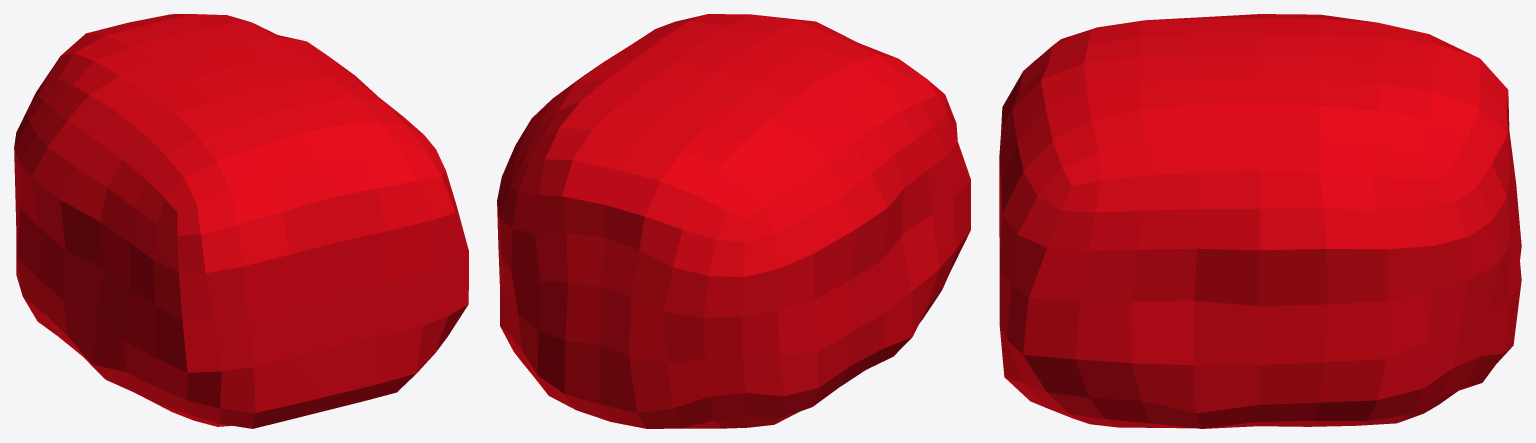
Rendered from body.fbx.
The picture shows the model from 3 angles, left to right: view 1: azimuth 30°, elevation 25°; view 2: azimuth 150°, elevation 25°; view 3: azimuth 270°, elevation 25°; orthographic projection. The views are drawn at different scales.
Visible parts, largest first — view 1: Cube.001; view 2: Cube.001; view 3: Cube.001.
Boxes of the visible parts, x1,y1,x2,y2 form: Cube.001: (14,14,468,428); Cube.001: (497,14,970,428); Cube.001: (999,14,1521,428).
Size of the model in its own units: 165 by 139 by 198.
